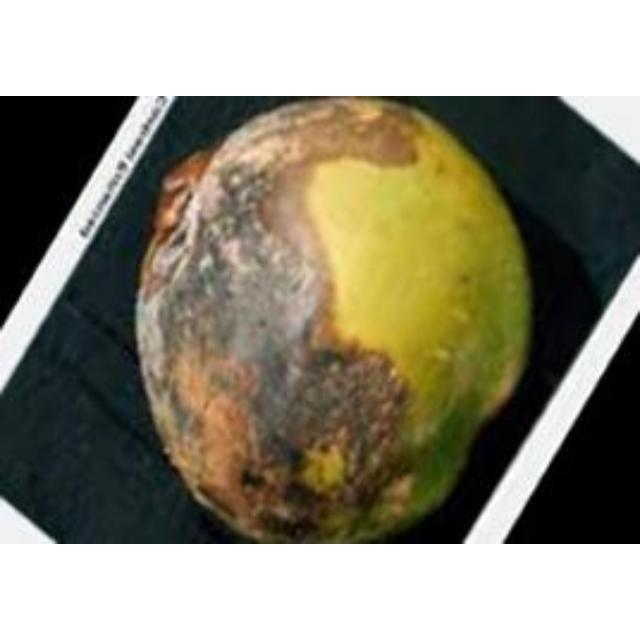damaged: (134, 98, 530, 543)
